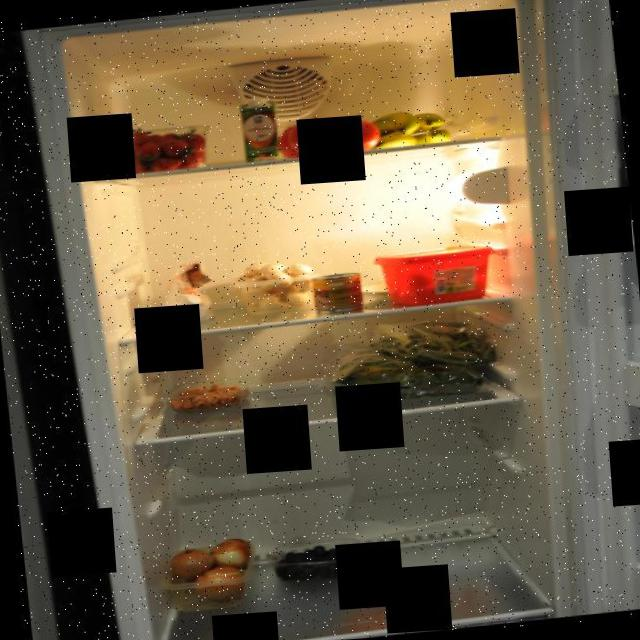Cebolla: (168, 536, 252, 604)
Champiñones: (228, 255, 320, 318)
Gambas/Langostinos: (167, 378, 250, 414)
Mantequilla: (368, 235, 503, 311)
Plátano: (364, 106, 455, 152)
Tomate: (276, 104, 384, 160)
